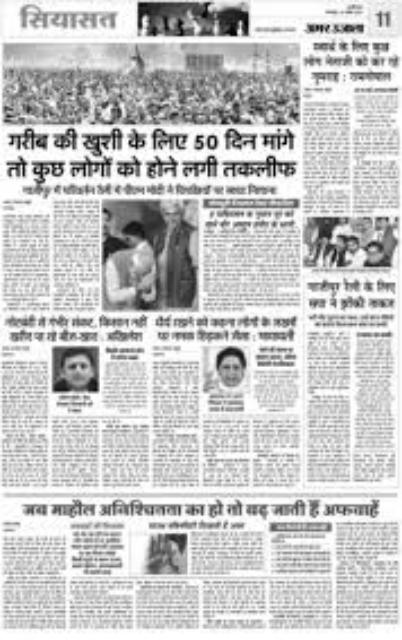cardboard paper: (4, 4, 402, 640)
